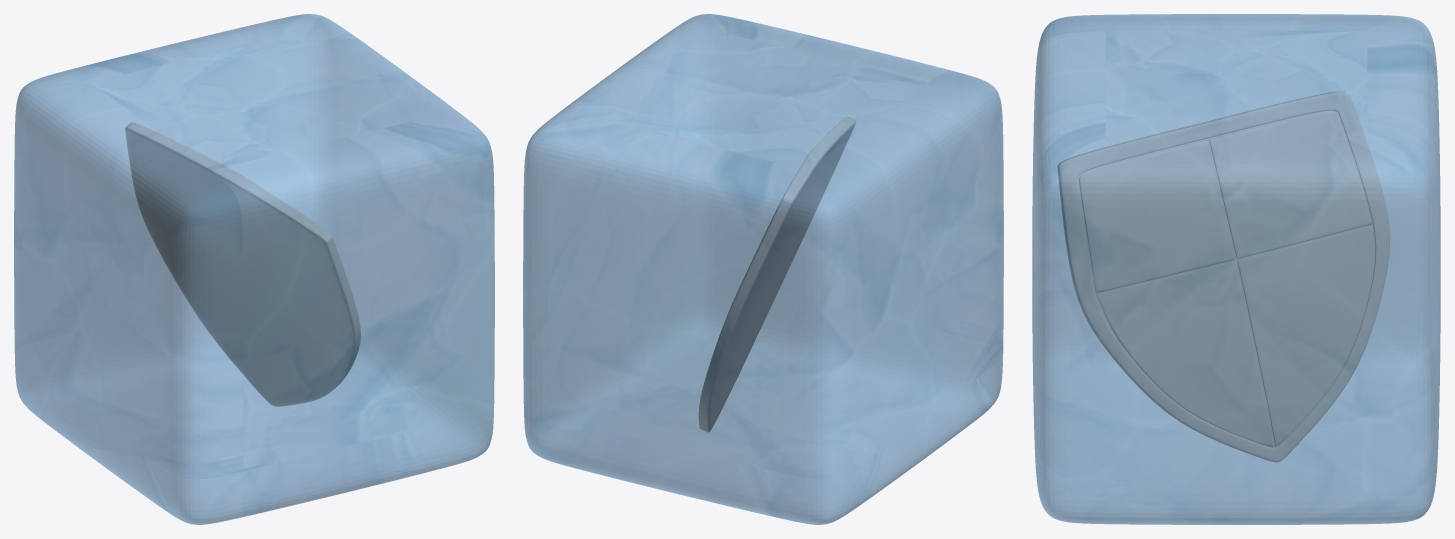
The model's file is Ice Tunnel Penguin Game Shield Cube.fbx.
The picture shows the model from 3 angles, left to right: view 1: azimuth 30°, elevation 25°; view 2: azimuth 150°, elevation 25°; view 3: azimuth 270°, elevation 25°; orthographic projection. The views are drawn at different scales.
Parts seen in each view (by area): view 1: Shield Cube, Cube.001; view 2: Shield Cube, Cube.001; view 3: Shield Cube, Cube.001.
Part boxes in pixels (x1,y1,x2,y2): Shield Cube: (14,14,494,524); Cube.001: (125,122,360,406); Shield Cube: (523,14,1003,524); Cube.001: (698,117,856,432); Shield Cube: (1032,14,1440,524); Cube.001: (1057,91,1390,462).
Size of the model in its own units: 199 by 199 by 199.
